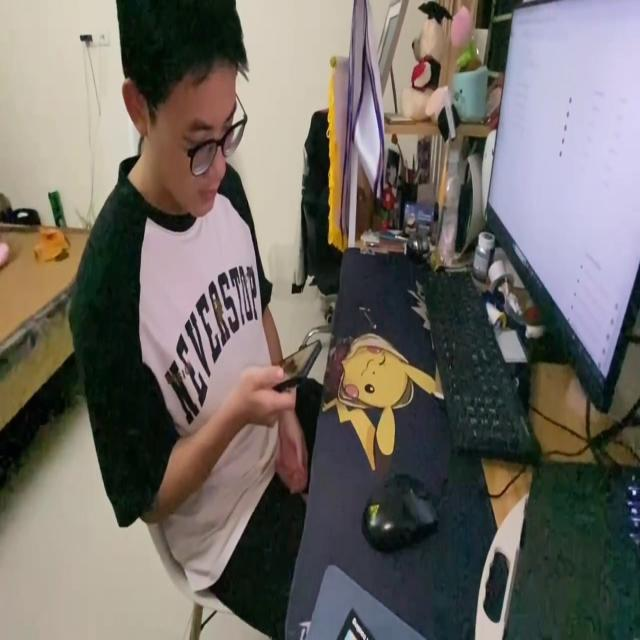laptop: (484, 0, 640, 416)
phone: (266, 327, 320, 402)
student: (72, 0, 320, 612)
